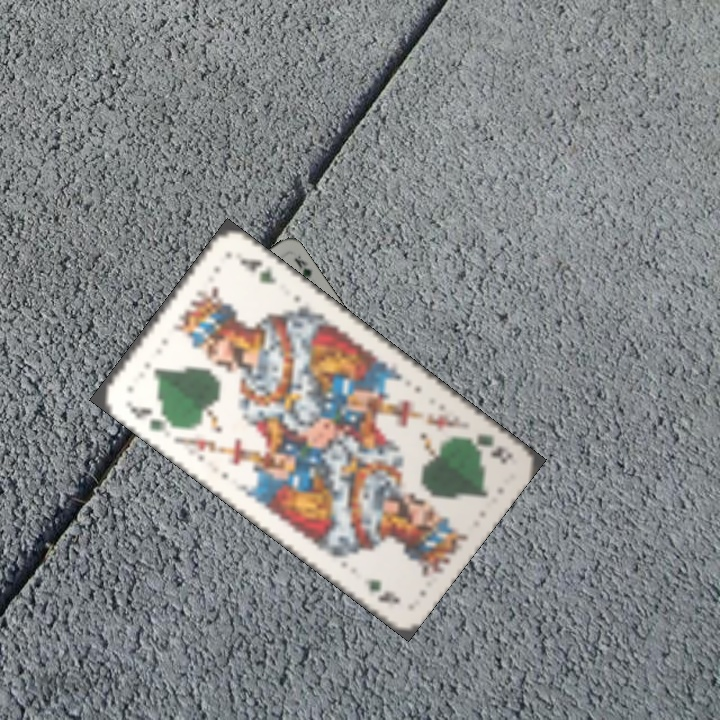GK: (458, 430, 516, 468), (120, 398, 175, 435)
